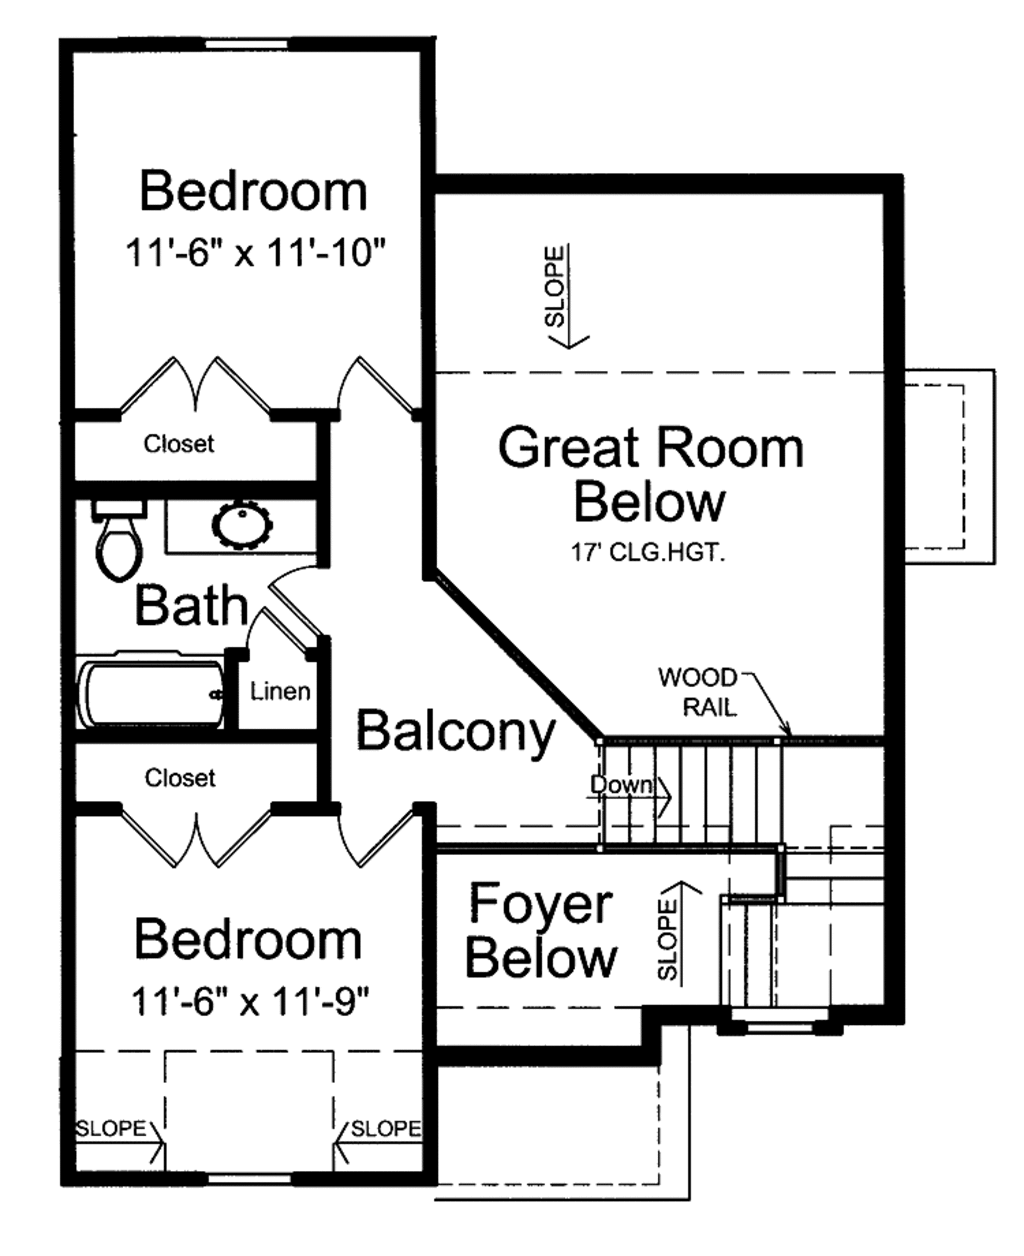door: (113, 355, 275, 436), (122, 796, 269, 873), (330, 344, 414, 432), (334, 807, 413, 876), (274, 559, 333, 645)
large_sink: (83, 496, 150, 591)
small_sink: (163, 496, 330, 560)
stairs: (591, 736, 887, 1020)
tub: (62, 648, 231, 736)
windows: (190, 1163, 297, 1195), (187, 32, 293, 59)
